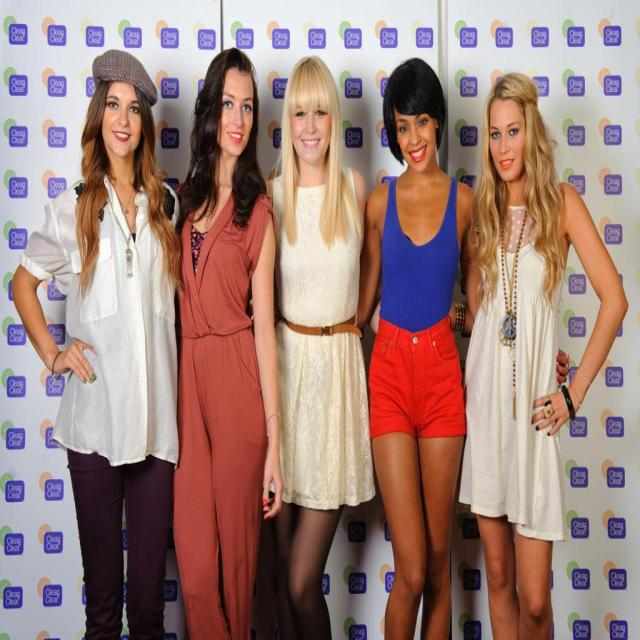Face: (283, 78, 342, 172), (482, 89, 533, 188), (389, 89, 444, 179), (214, 65, 257, 168), (94, 77, 150, 154)
